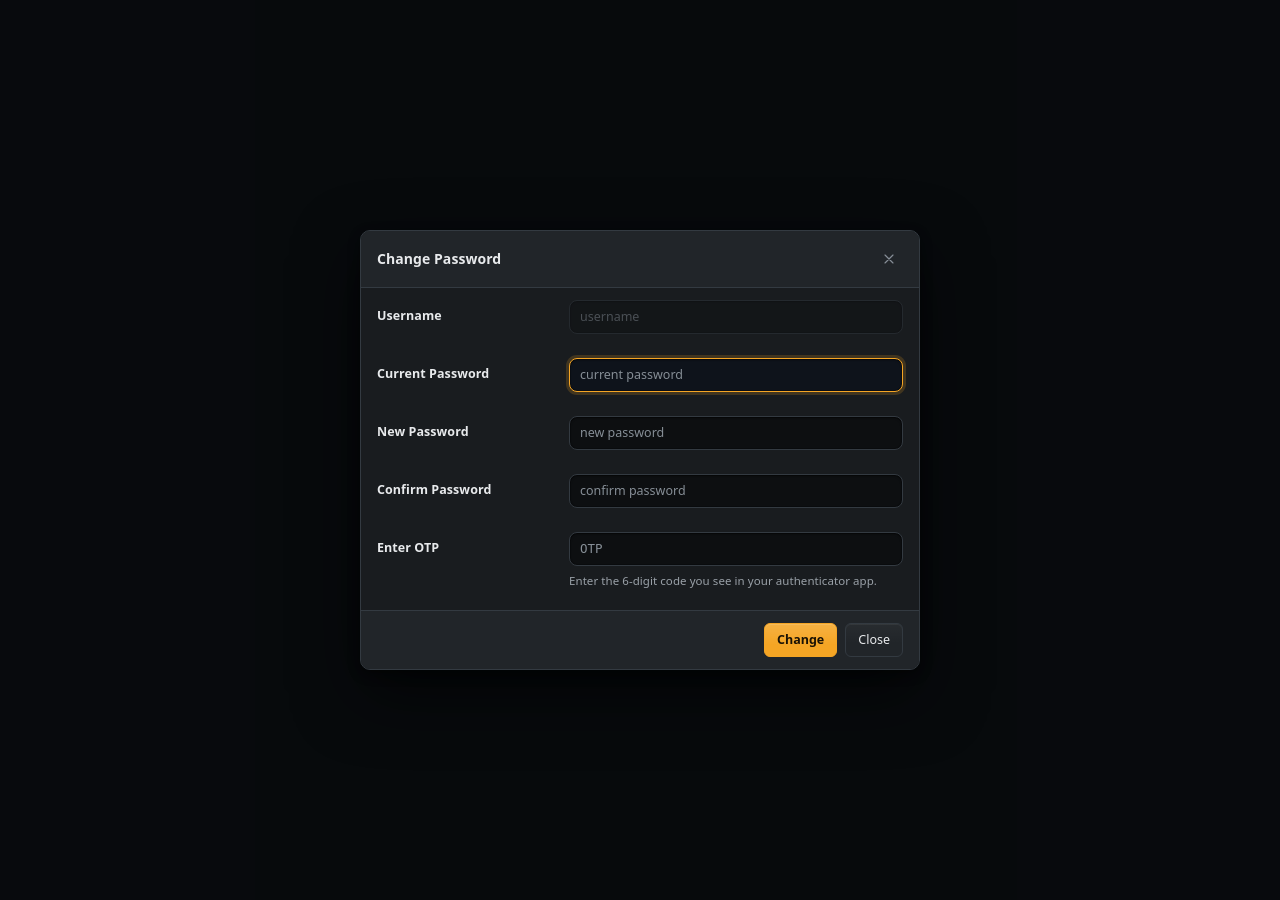
Test: Change Password › with 2FA on it requires the 6 digits
Type "old-one" into the password field labelled "Current Password". click: (736, 375)
box: [569,358,903,392]
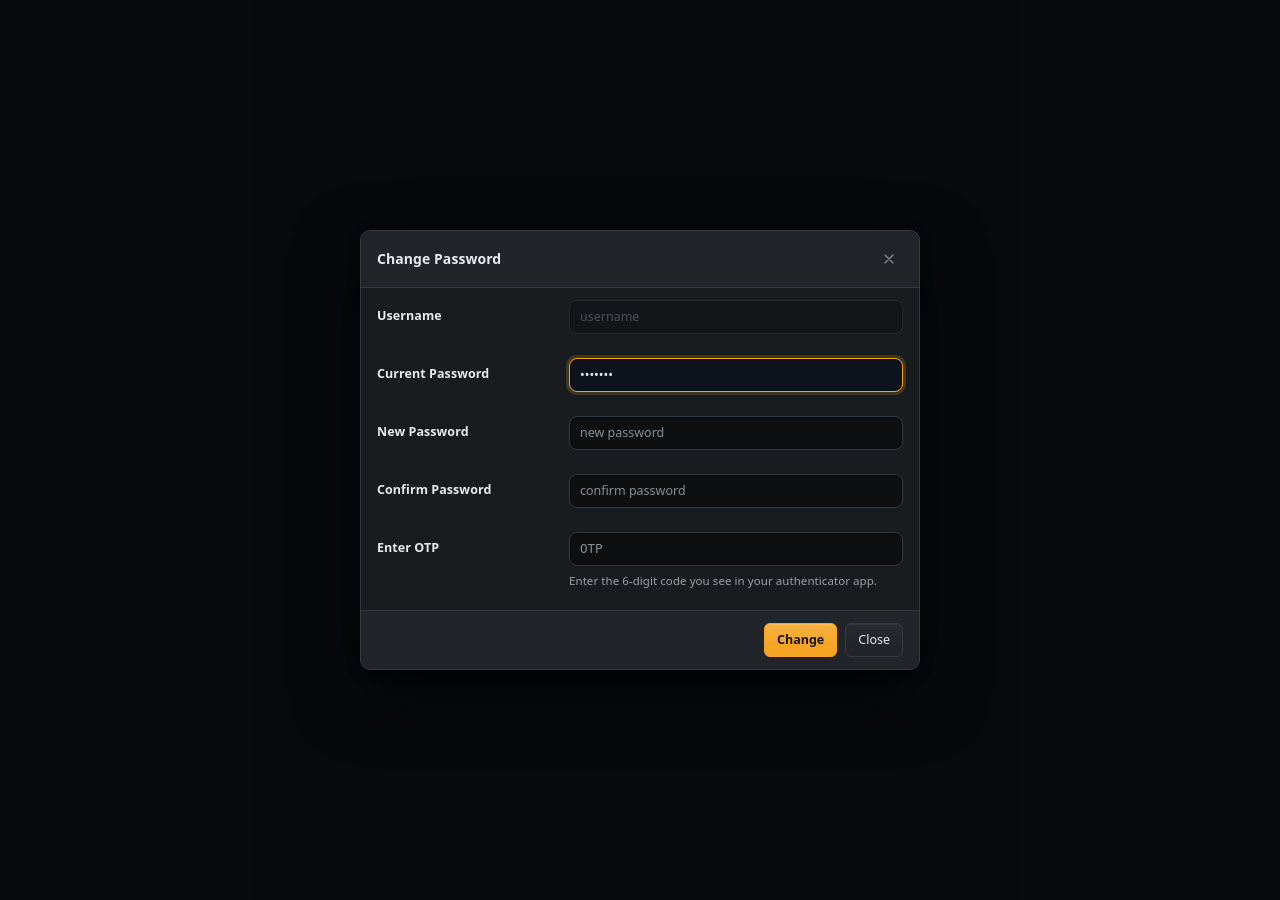
Type "new-one" into the password field labelled "New Password". click: (736, 433)
box: [569,416,903,450]
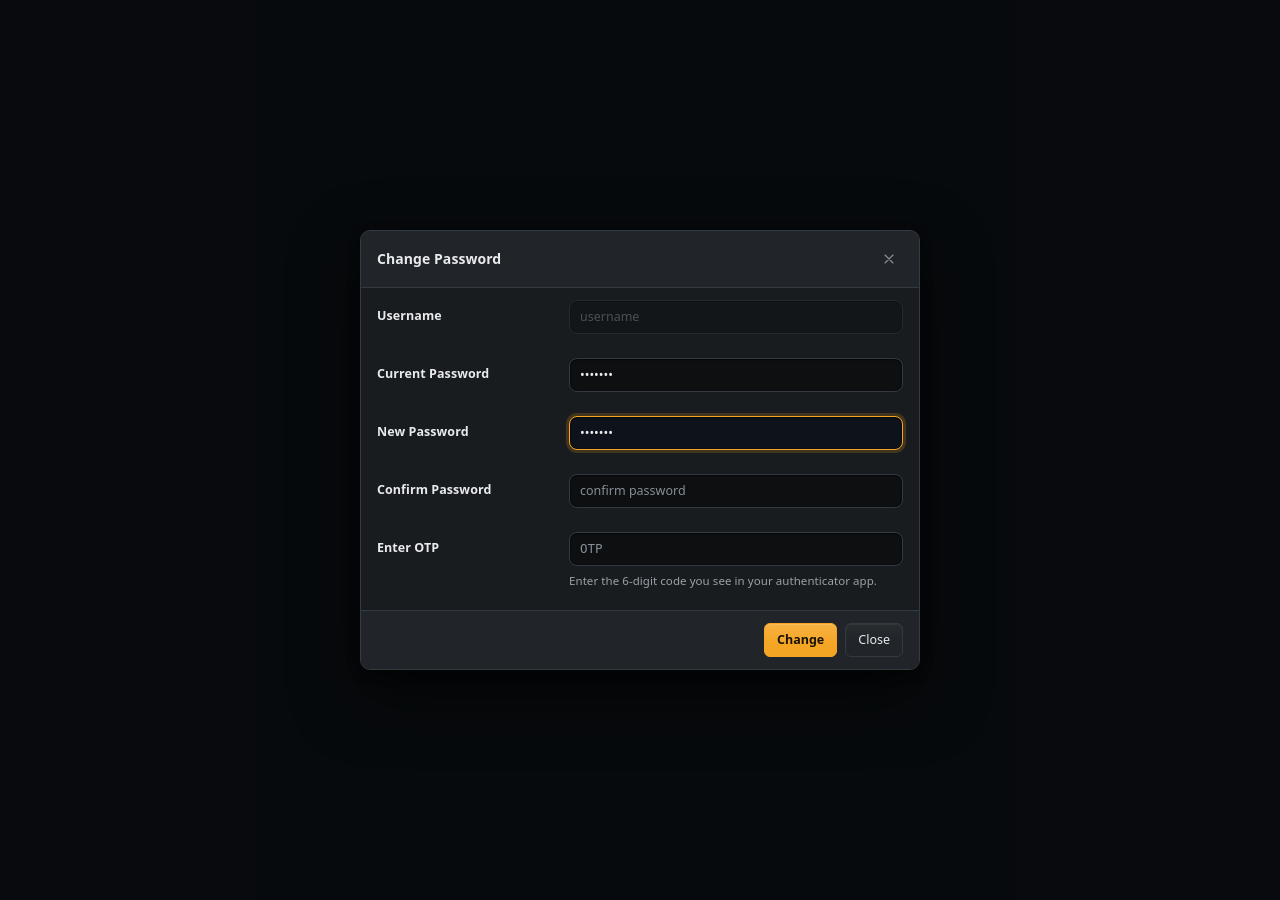
Type "new-one" into the password field labelled "Confirm Password". click: (736, 491)
box: [569,474,903,508]
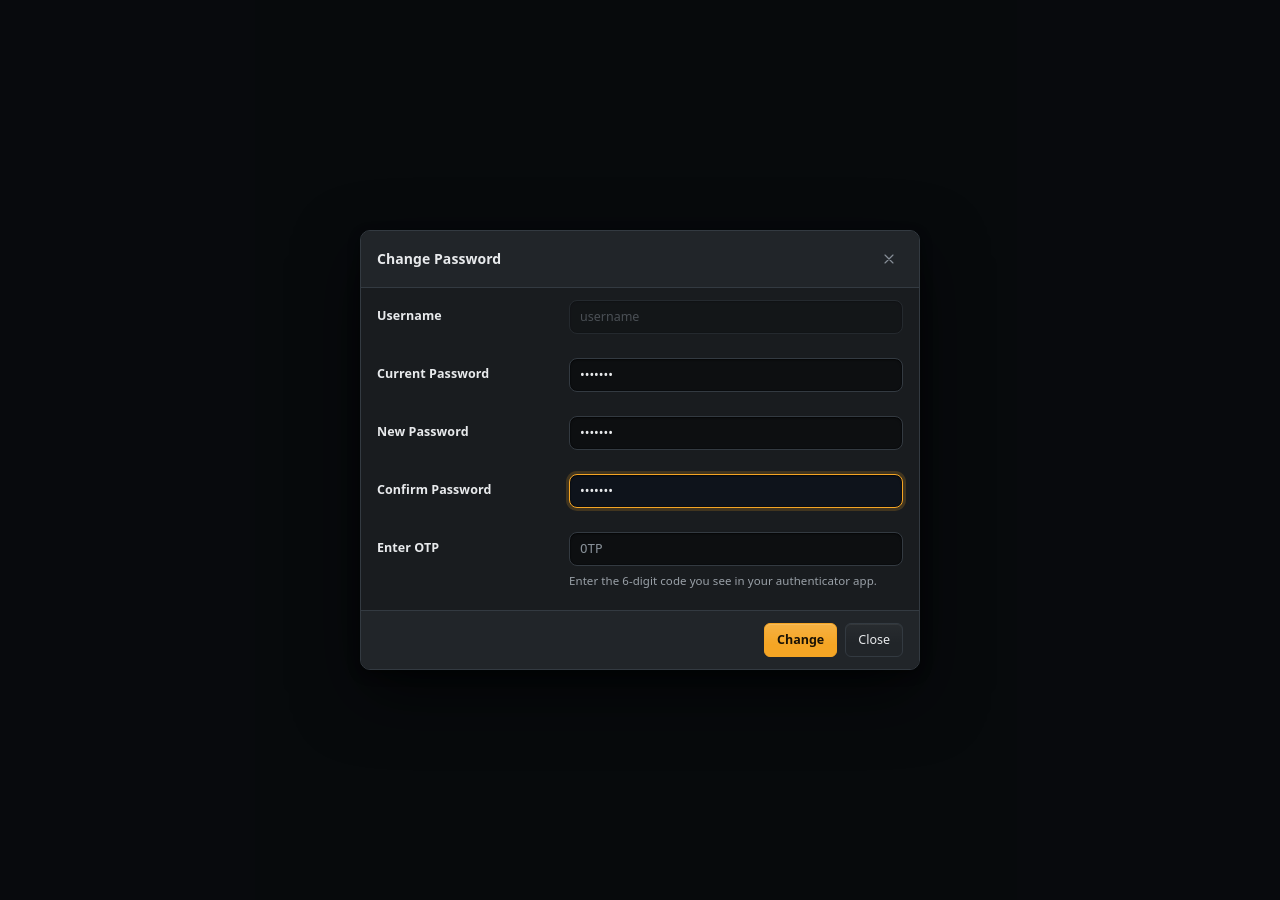
Click the button "Change". click: (801, 640)
box: [764,623,837,657]
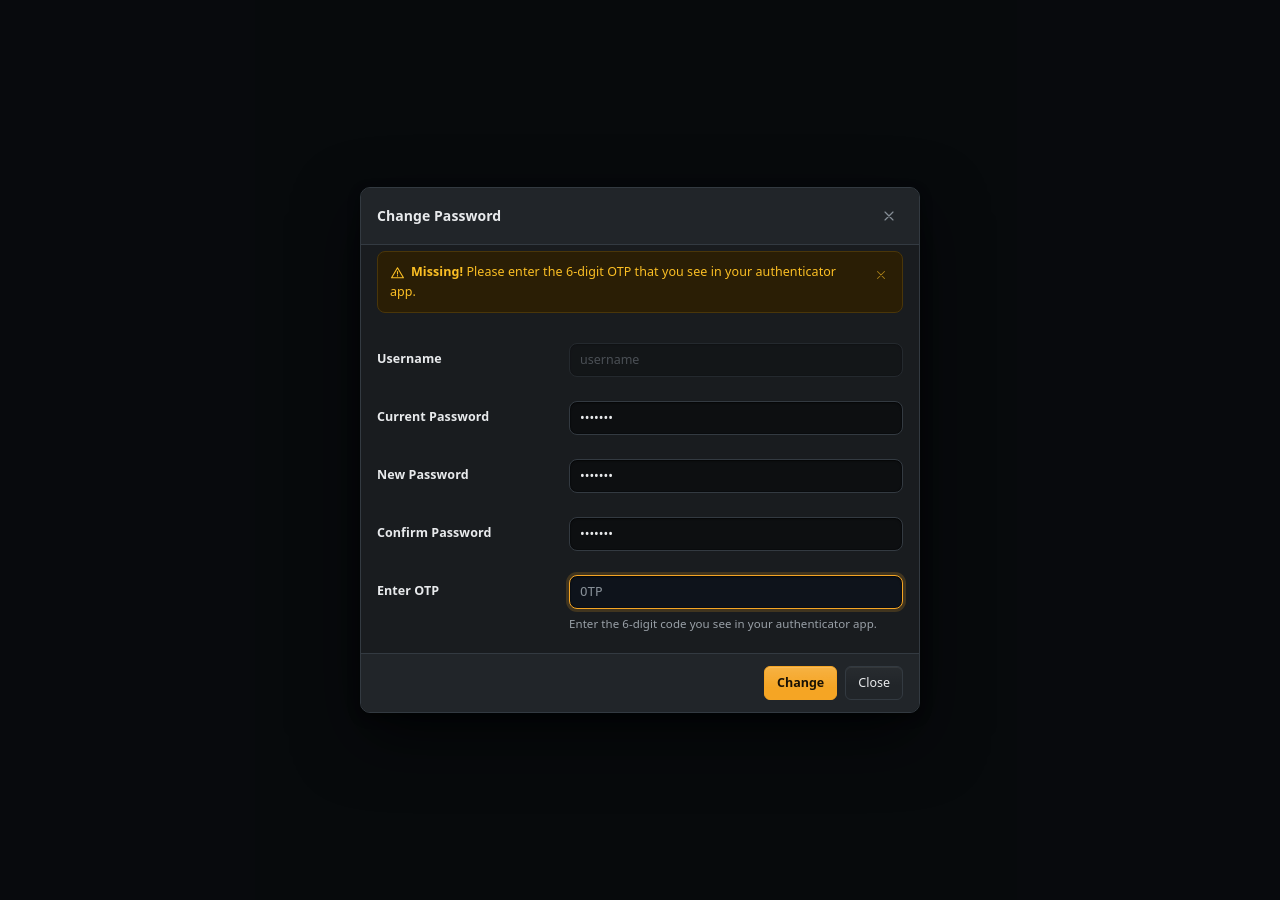
Expected: the text "Please enter the 6-digit OTP that you see in your authenticator app." is shown, [390,263,836,300]
